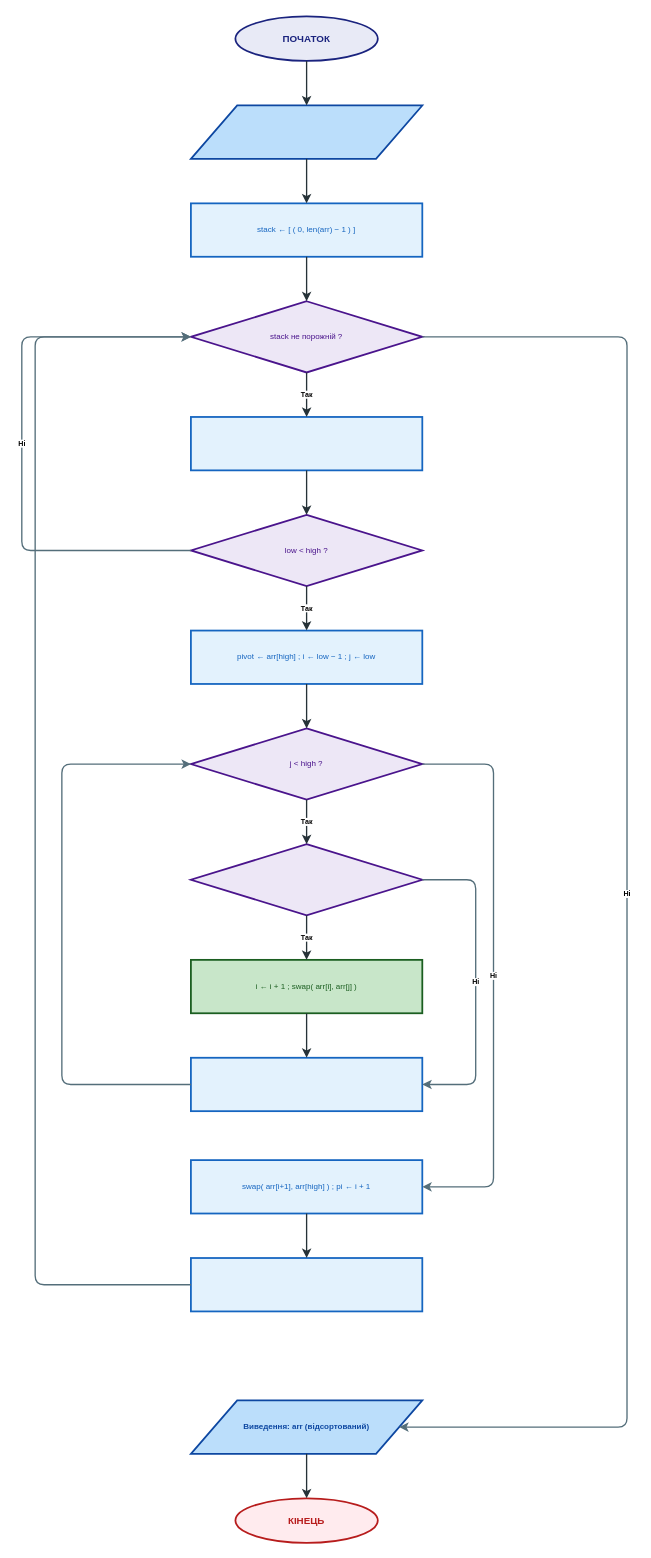
The diagram is 651 pixels wide and 1558 high, and some of its shapes have lost their labels. The shapes that lost their labels are listed below. From the top down, each one's box as (x1, y1, x2, y2) in pixels, then its label:
(190, 104, 423, 159): Введення: масив arr
(190, 416, 423, 471): ( low, high ) ← stack.pop()
(190, 843, 423, 916): arr[ j ] ≤ pivot ?
(190, 1056, 423, 1112): j ← j + 1
(190, 1257, 423, 1312): stack.push( low, pi−1 ) ; stack.push( pi+1, high )
